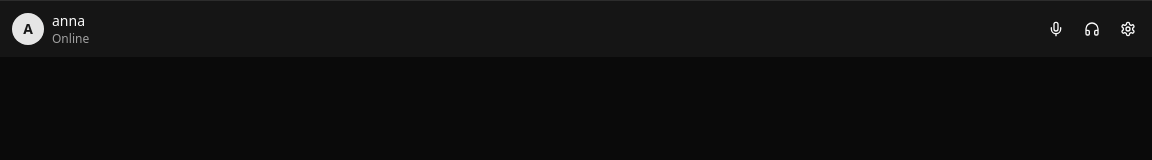
Test case: UserPanel › names the buttons in a tooltip
Hover over the button named "Deafen" at [1092, 29], box [1076,13,1108,45]
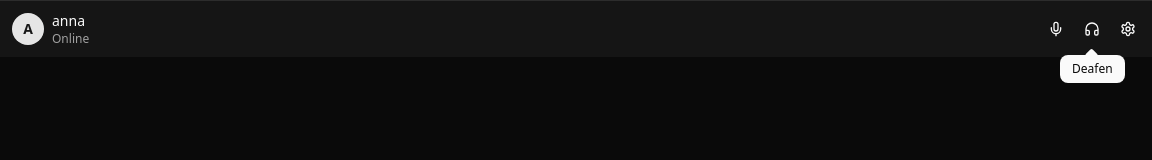
Result: the text "Deafen" is shown at [1060,55,1125,83]
